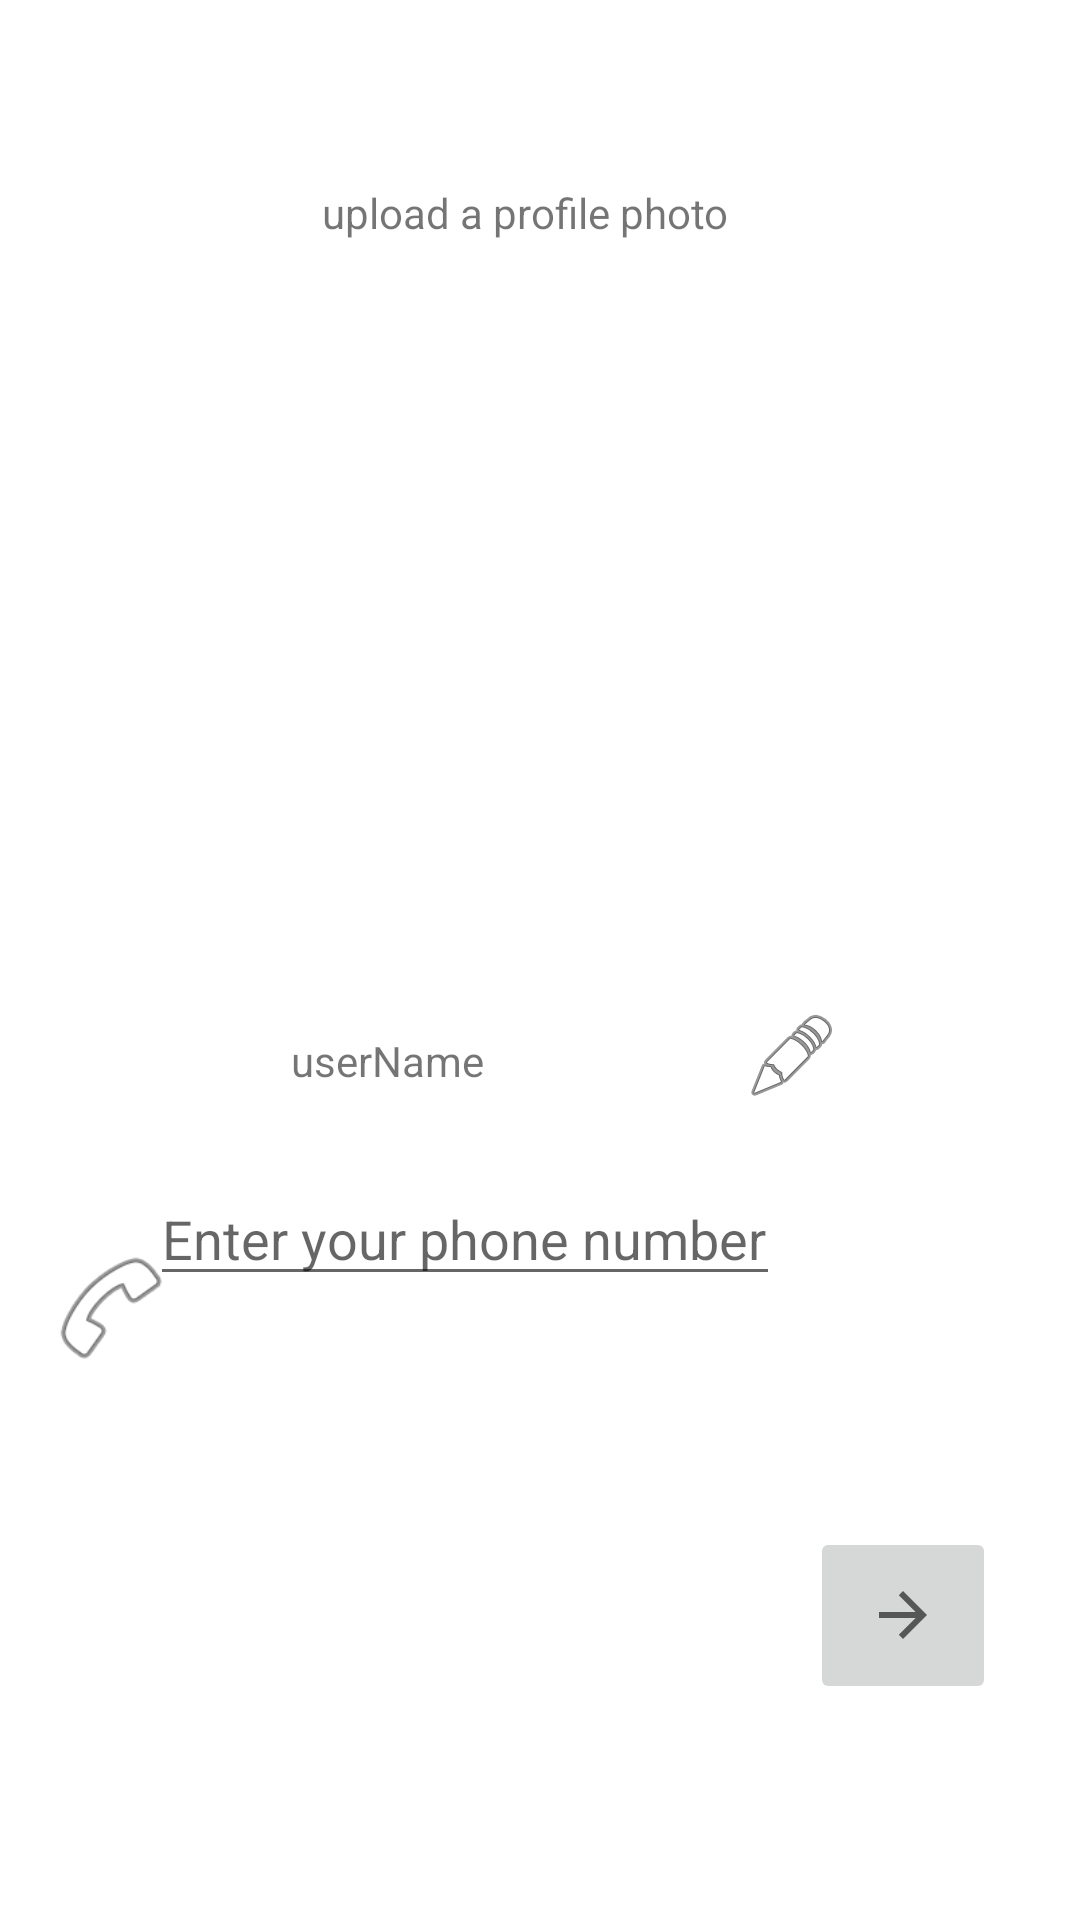

Icon bounding boxes for this 1080px x 1920px phone screenshot, format (x1, y1, x2, y2):
call: (61, 1258, 162, 1359)
edit: (751, 1015, 832, 1096)
